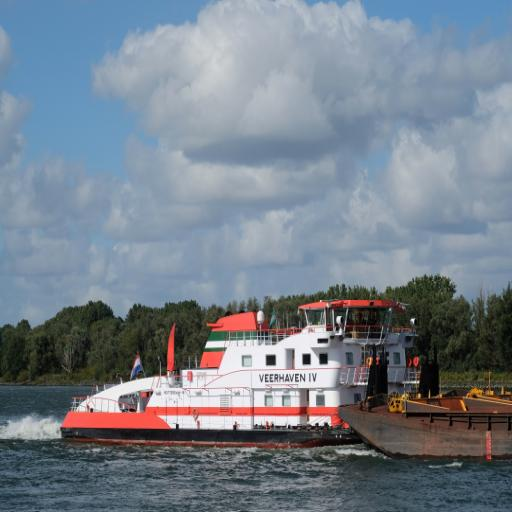tugboat: (56, 297, 445, 454)
